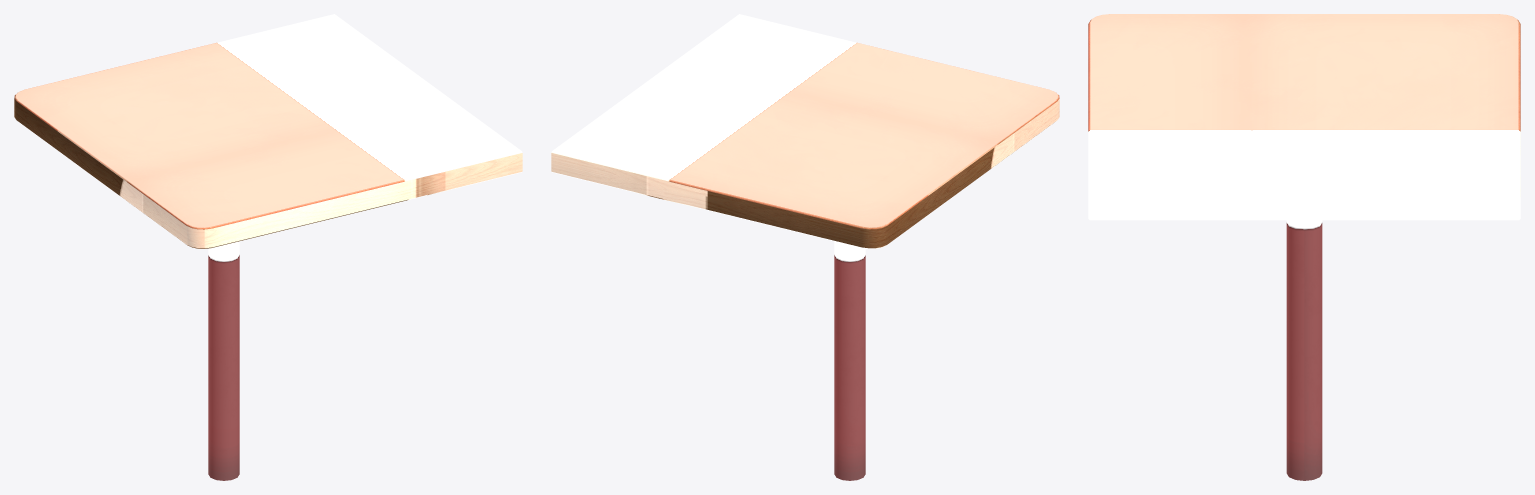
File: SM_Table_01_End.fbx
3 renders of one model, left to right at view 1: azimuth 30°, elevation 25°; view 2: azimuth 150°, elevation 25°; view 3: azimuth 270°, elevation 25°, orthographic. The views are drawn at different scales.
Visible parts, largest first — view 1: SM_Table_01_End_LOD0; view 2: SM_Table_01_End_LOD0; view 3: SM_Table_01_End_LOD0.
Part boxes in pixels (x1,y1,x2,y2): SM_Table_01_End_LOD0: (14, 14, 522, 480); SM_Table_01_End_LOD0: (551, 14, 1059, 480); SM_Table_01_End_LOD0: (1088, 14, 1520, 480).
Size of the model in its own units: 80 by 80 by 80.
